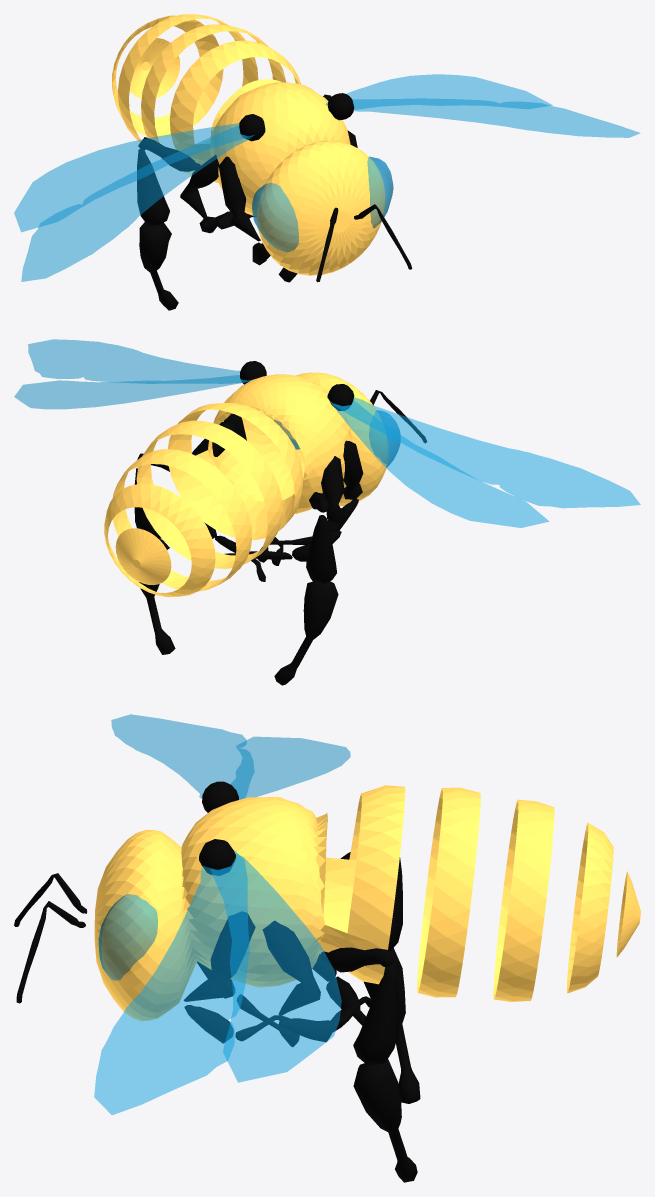
File: beeFinal3.fbx
3 views of the same model, one above another, from view 1: azimuth 30°, elevation 25°; view 2: azimuth 150°, elevation 25°; view 3: azimuth 270°, elevation 25° (orthographic). The views are drawn at different scales.
Parts seen in each view (by area): view 1: BEE, AilesVoleuseD, AilesVoleuseG, PattesVoleuses; view 2: BEE, AilesVoleuseD, AilesVoleuseG, PattesVoleuses; view 3: BEE, AilesVoleuseG, PattesVoleuses, AilesVoleuseD.
Part boxes in pixels (x1,y1,x2,y2): BEE: [112, 14, 412, 282]; AilesVoleuseD: [14, 114, 265, 281]; AilesVoleuseG: [325, 74, 640, 137]; PattesVoleuses: [137, 94, 357, 310]; BEE: [104, 372, 427, 596]; AilesVoleuseD: [327, 384, 640, 527]; AilesVoleuseG: [14, 339, 266, 409]; PattesVoleuses: [134, 414, 363, 685]; BEE: [14, 785, 640, 1021]; AilesVoleuseG: [94, 839, 341, 1114]; PattesVoleuses: [184, 852, 420, 1182]; AilesVoleuseD: [111, 714, 350, 812].
Bounding box in the file's own units: 10.49 × 4.18 × 6.83.
